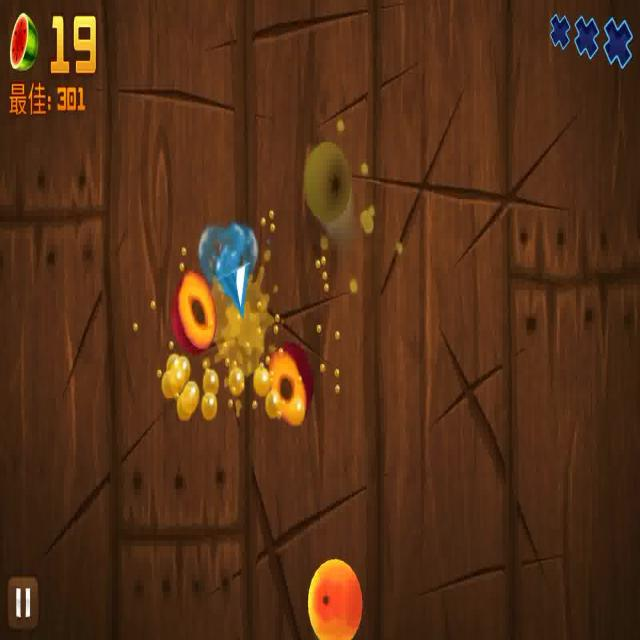fruit: (307, 557, 365, 640), (304, 140, 352, 228), (267, 344, 313, 431), (172, 271, 215, 352)
